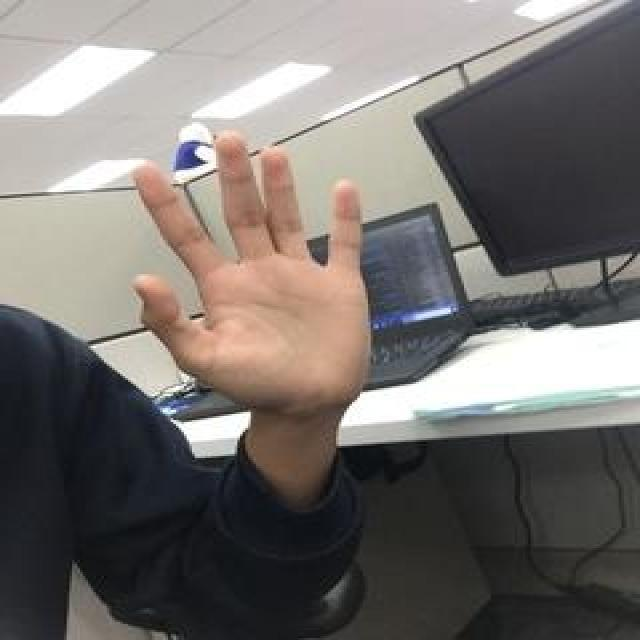hand: (130, 128, 378, 410)
